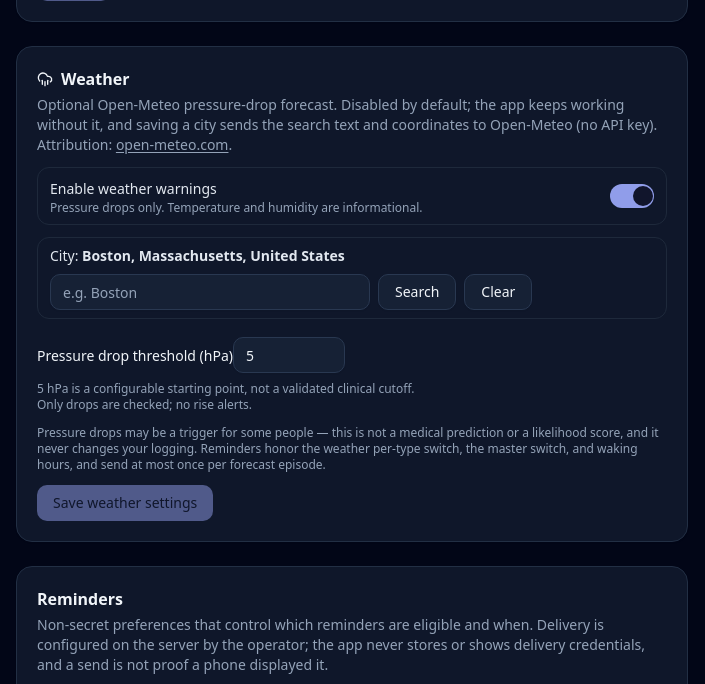
Test case: Settings weather section › blocks saving an out-of-range threshold
(page scrolled)
Replace the text in the number field labelled "Pressure drop threshold (hPa)" with "0" at {"x": 289, "y": 355}, box top-left (233, 337), bottom-right (345, 373)
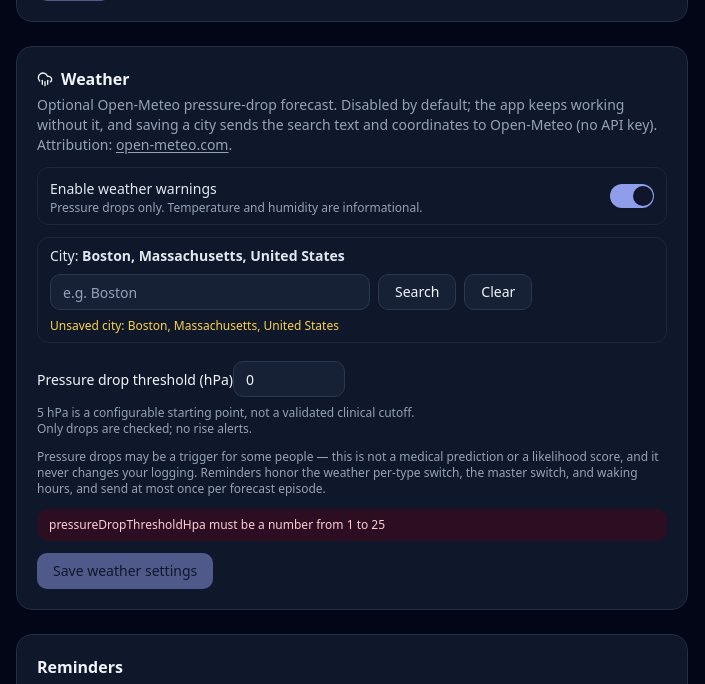
Expected: the button "Save weather settings" is disabled, top-left (37, 553), bottom-right (213, 589)
Expected: the text "pressureDropThresholdHpa must be a number from 1 to 25" is shown, top-left (49, 516), bottom-right (385, 533)
